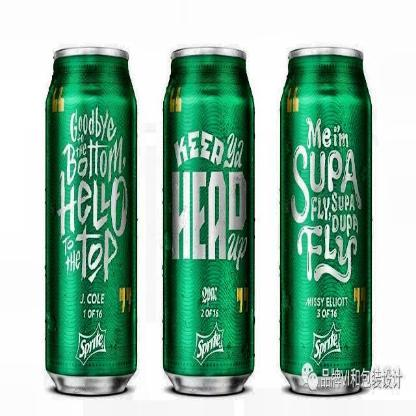Can: (41, 39, 145, 397), (160, 43, 262, 399), (275, 43, 377, 399)
